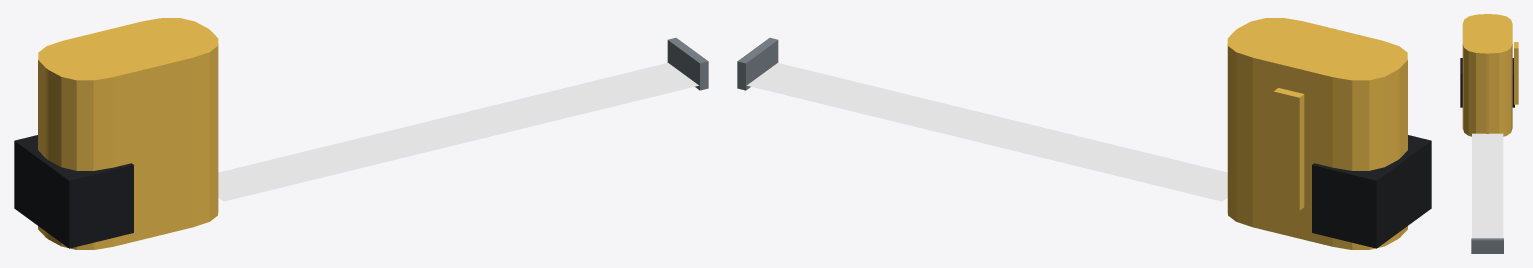
The model's file is toolkit--tapeMeasure.glb.
3 views of the same model, side by side, from view 1: azimuth 30°, elevation 25°; view 2: azimuth 150°, elevation 25°; view 3: azimuth 270°, elevation 25° (orthographic). The views are drawn at different scales.
Visible parts, largest first — view 1: tapeMeasure:shell, blade; view 2: tapeMeasure:shell, blade; view 3: tapeMeasure:shell, blade.
Boxes of the visible parts, x1=… form: tapeMeasure:shell: x1=14, y1=18, x2=218, y2=249; blade: x1=218, y1=37, x2=708, y2=201; tapeMeasure:shell: x1=1227, y1=18, x2=1431, y2=249; blade: x1=737, y1=37, x2=1227, y2=201; tapeMeasure:shell: x1=1460, y1=14, x2=1518, y2=136; blade: x1=1471, y1=133, x2=1503, y2=253.
Size of the model in its own units: 0.301 by 0.075 by 0.047.
